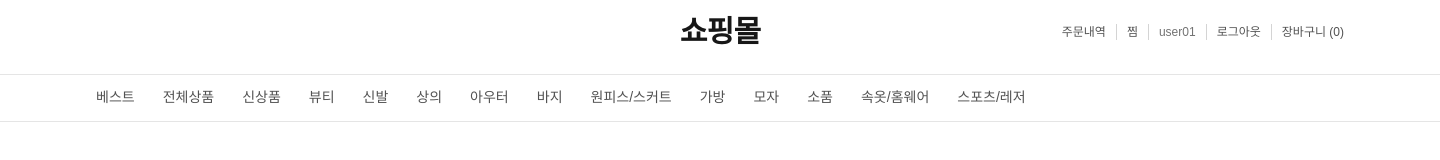
it: Header › 성공: 로그인 상태면 이름과 로그아웃을 보여주고, 로그아웃하면 홈으로 간다
The width and height of the screenshot is (1440, 160).
Expected: the link "user01" is shown, [1159,25,1196,39]
Expected: the link "로그인" is not shown
Step 1. Click the button "로그아웃" → (1239, 32), box [1217,24,1261,40]
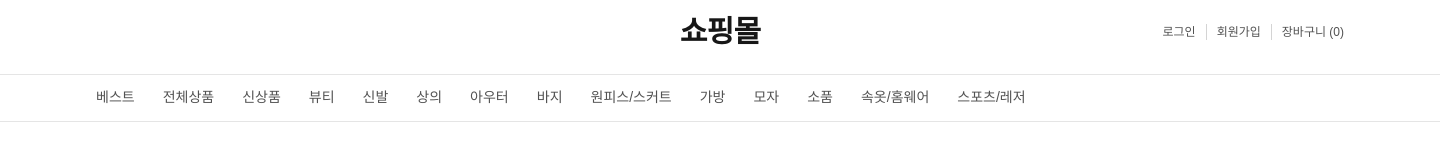
Now the link "로그인" is shown, box [1162,25,1196,39]
